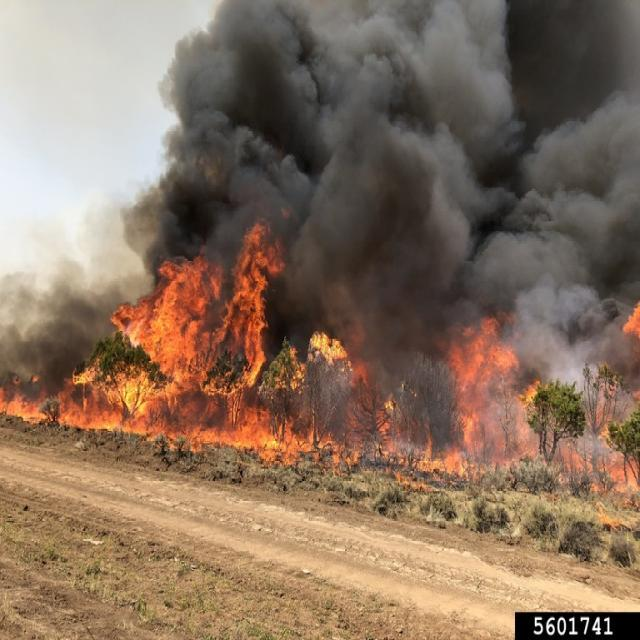Fire: (0, 222, 640, 496)
Smoke: (0, 0, 640, 464)
